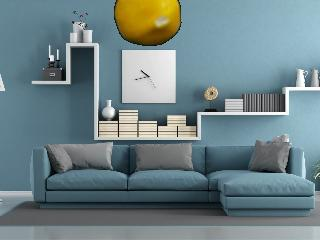lemon: (115, 0, 180, 46)
